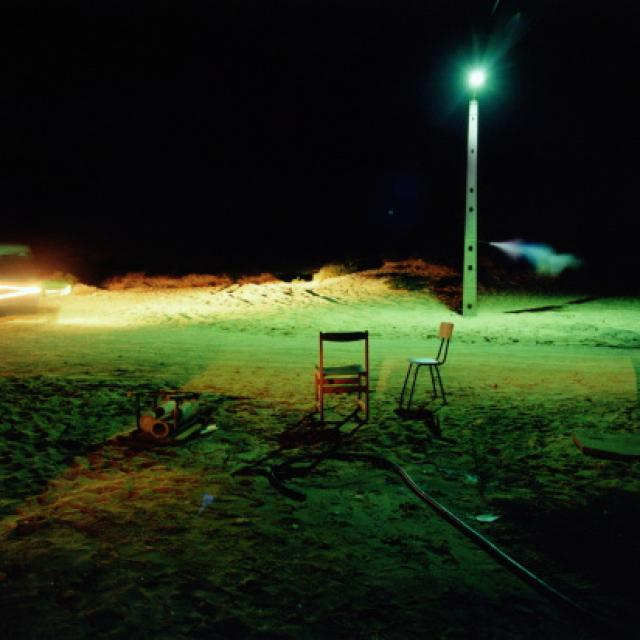chair: (393, 314, 472, 435), (305, 327, 381, 438)
